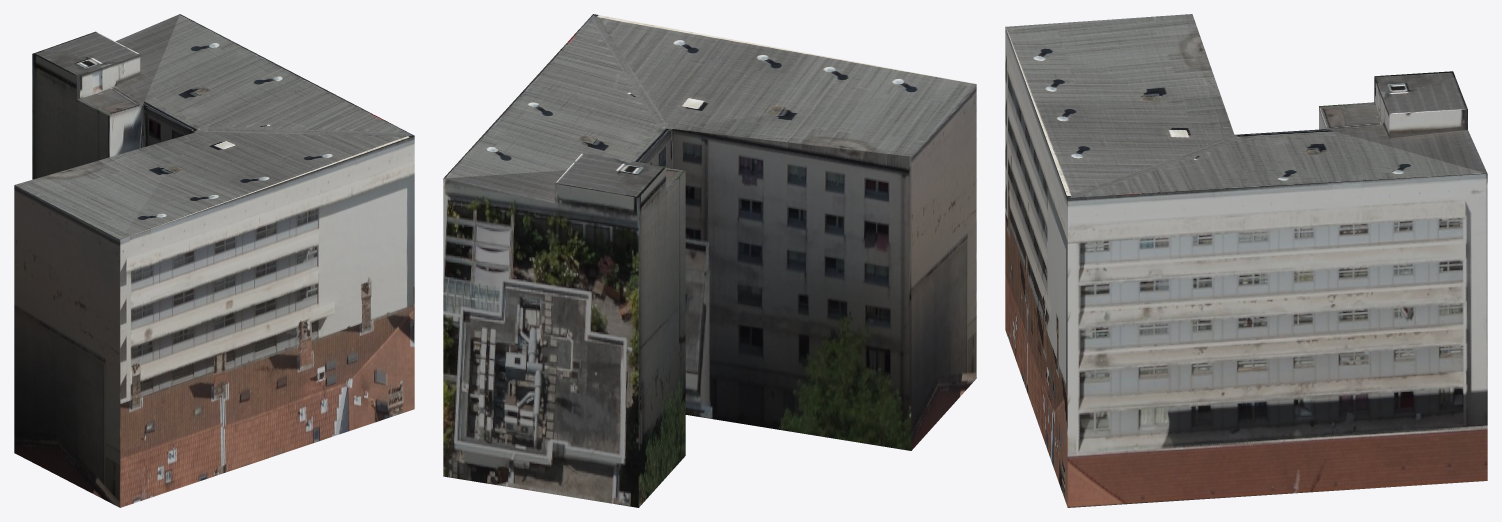
3 views of the same model, side by side, from view 1: azimuth 30°, elevation 25°; view 2: azimuth 150°, elevation 25°; view 3: azimuth 270°, elevation 25° (orthographic). The views are drawn at different scales.
Visible parts, largest first — view 1: Z_UP; view 2: Z_UP; view 3: Z_UP.
Boxes of the visible parts, box(x1,y1,x2,y2) form: Z_UP: box(14, 14, 414, 507); Z_UP: box(443, 14, 976, 507); Z_UP: box(1005, 14, 1487, 507).
Bounding box in the file's own units: 30.16 × 23.67 × 32.26.
2 materials, 1 textured.
